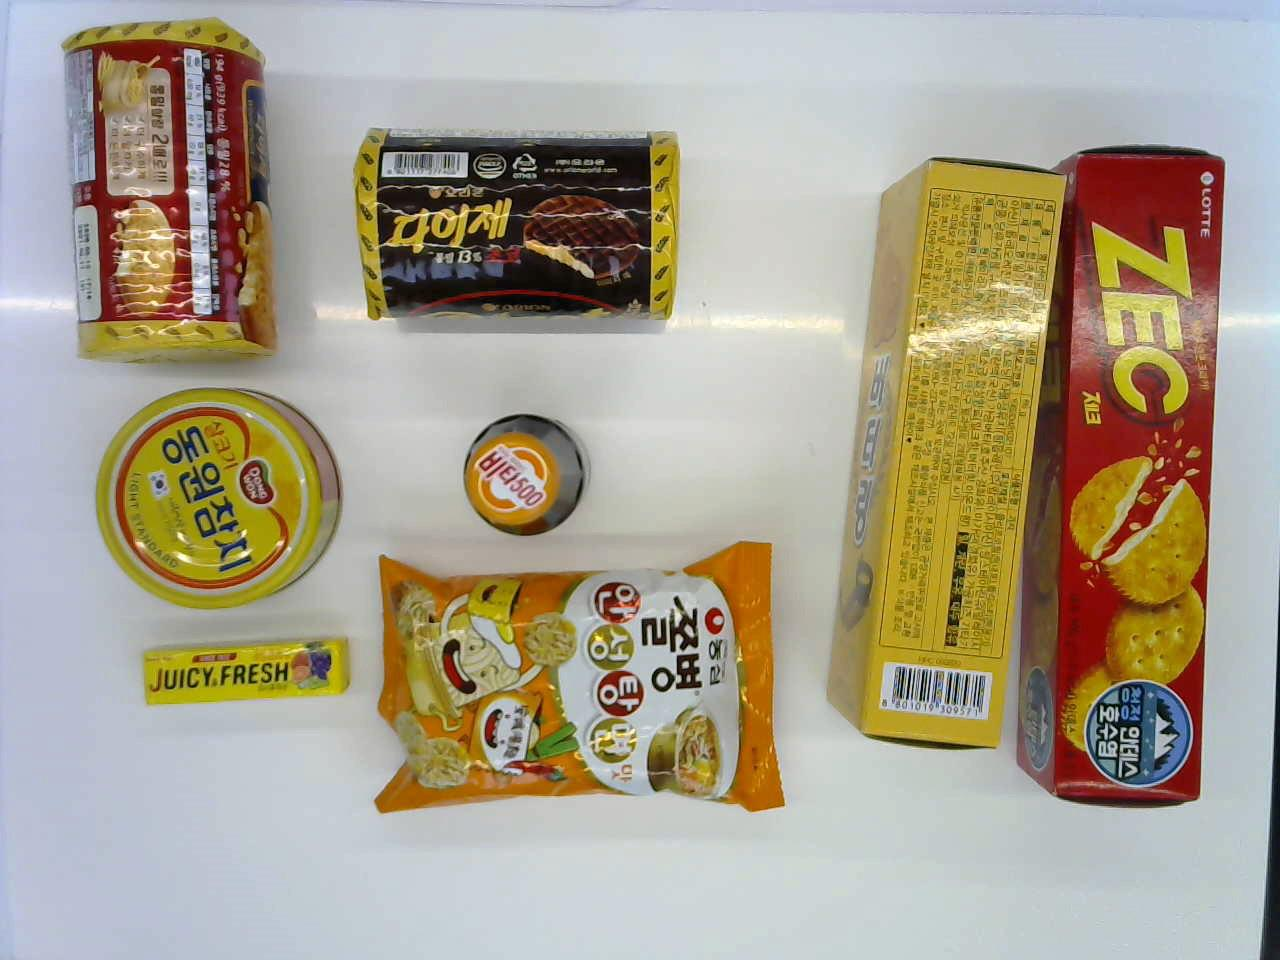buttering: (833, 147, 1062, 768)
diget_choco: (352, 111, 682, 329)
diget_ori: (52, 18, 269, 364)
jjolbyung_noodle: (358, 544, 769, 807)
juicyfresh: (109, 634, 349, 734)
tuna: (96, 376, 339, 605)
vita500: (466, 410, 592, 539)
zec: (1022, 133, 1237, 811)
